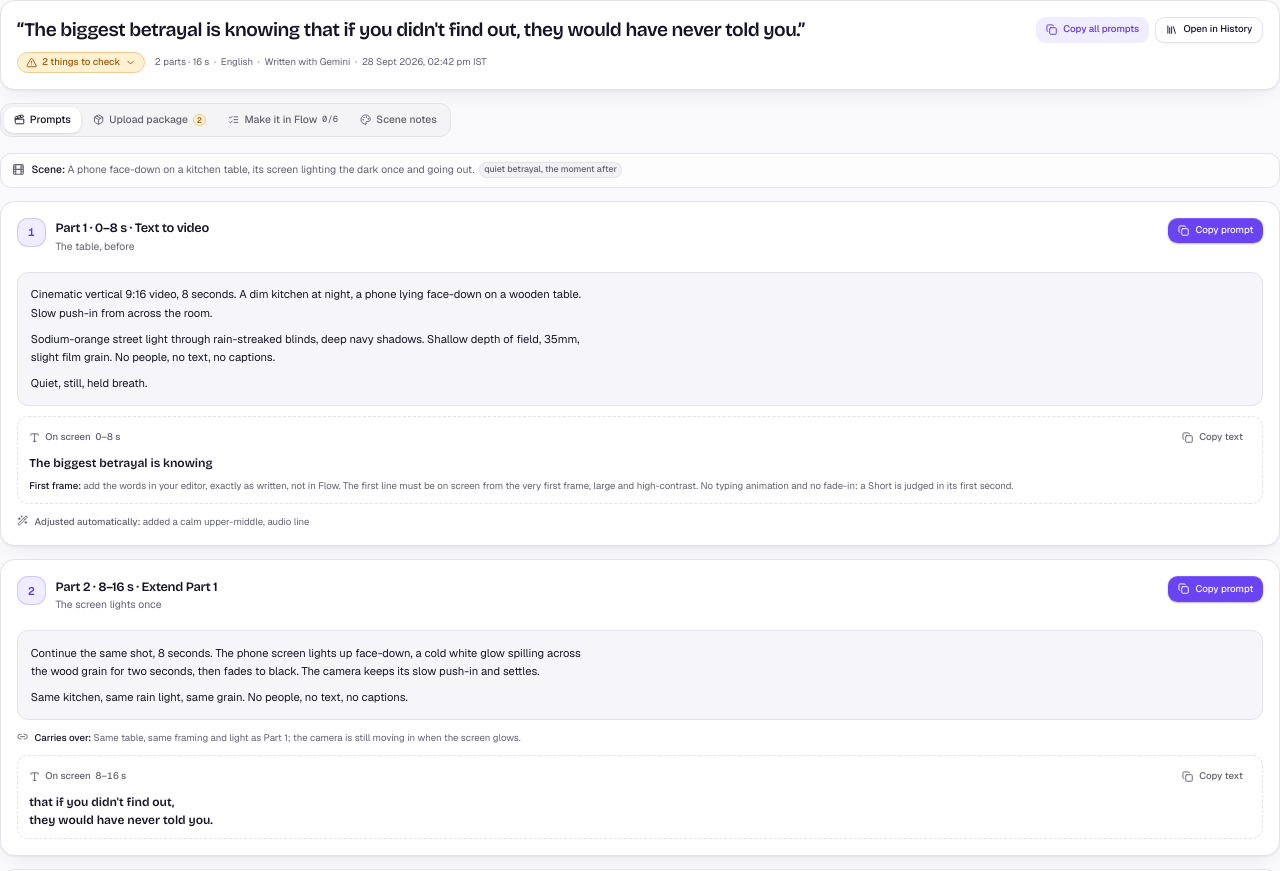
Test case: PlanView header › counts the package's quality notes too, apart from the prompts', and flags the Upload package tab
Click the button "2 things to check": click(81, 63) [17,52,145,73]
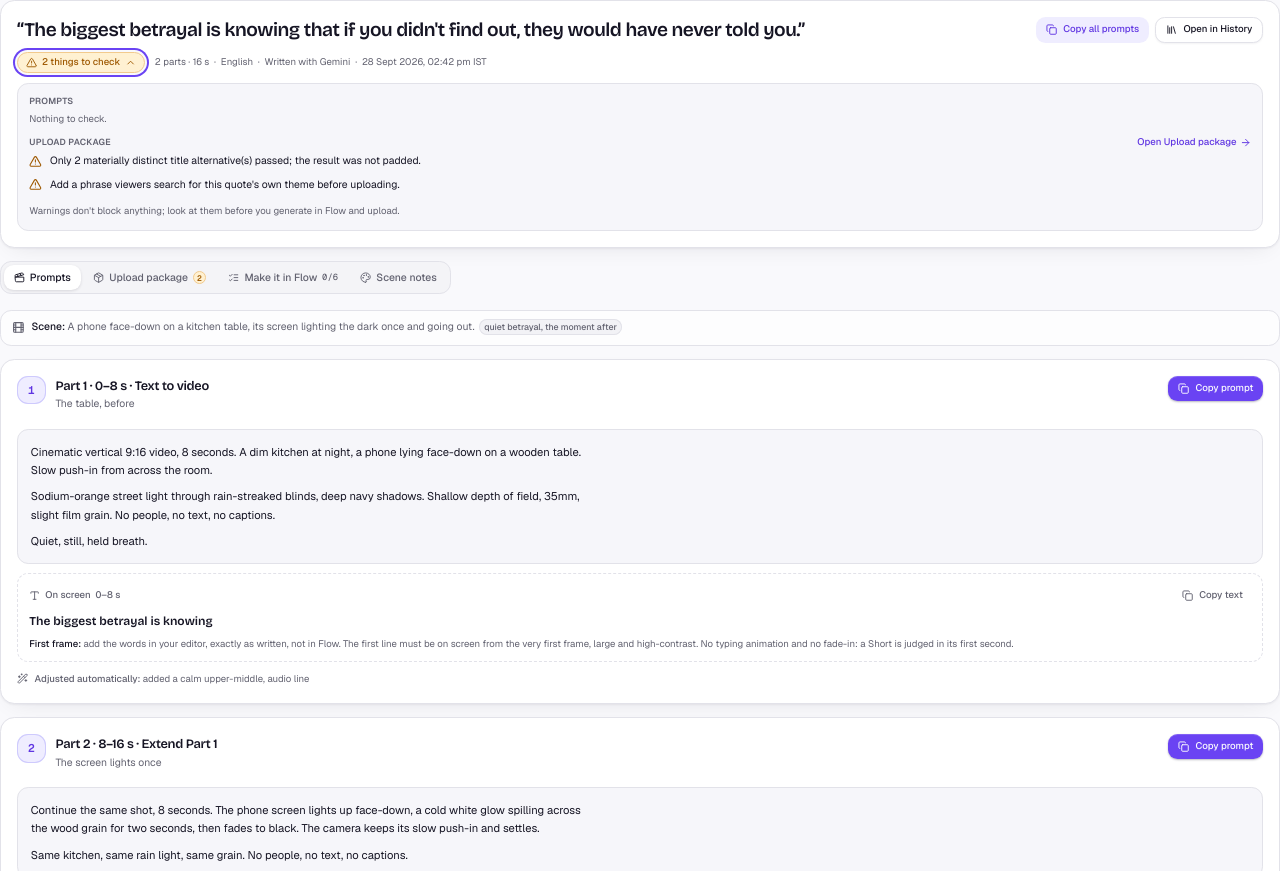
Expected: the text with test id "package-notes-badge" reads "2", [197,273,202,283]
Expected: the element with test id "status-group-prompts" shows "Nothing to check.", [29,112,106,125]
Expected: the list named "Package notes" shows "Only 2 materially distinct title alternative(s) passed", [50,154,421,168]
Click the button "Open Upload package": click(1194, 142) [1137,136,1251,148]
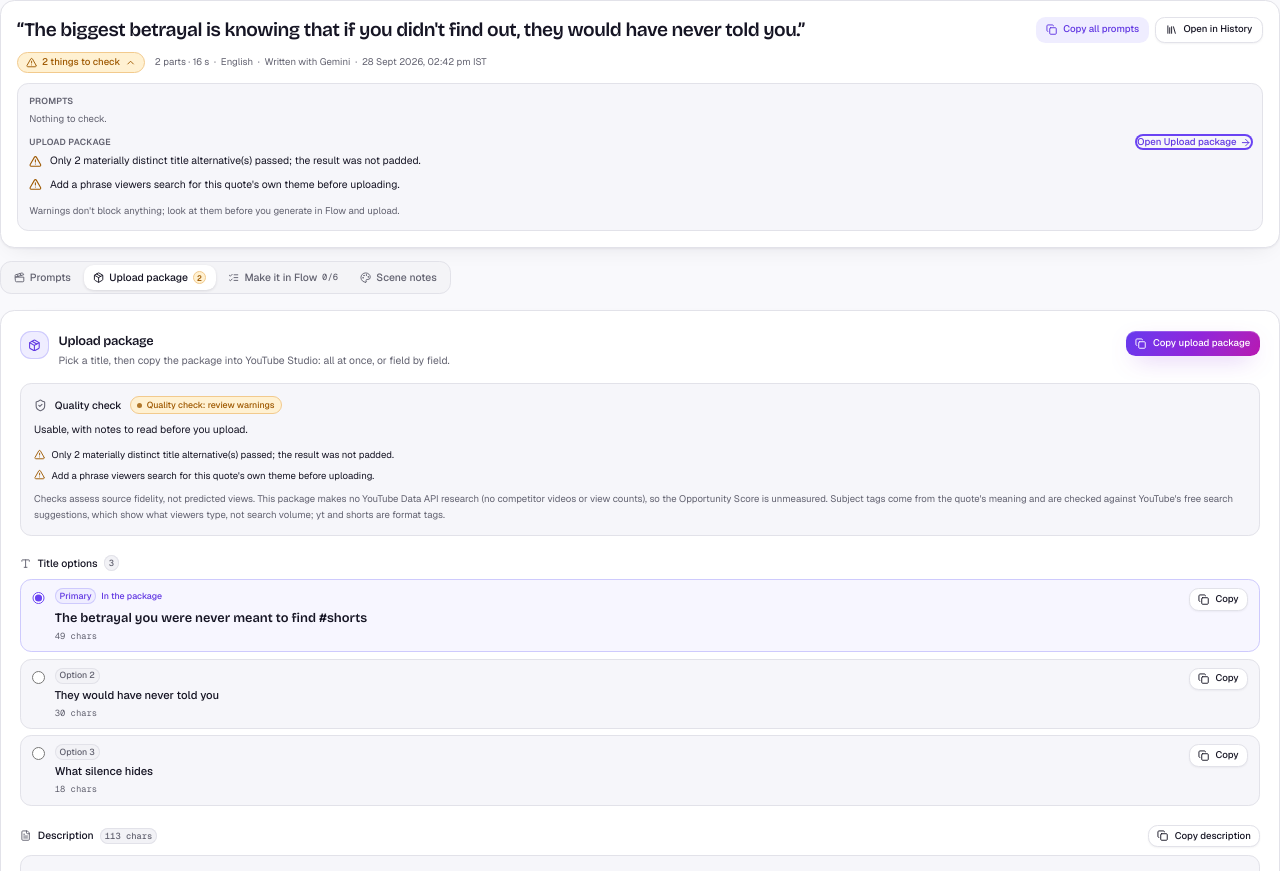
Expected: the text "Quality check: review warnings" is shown, [130,396,282,414]
